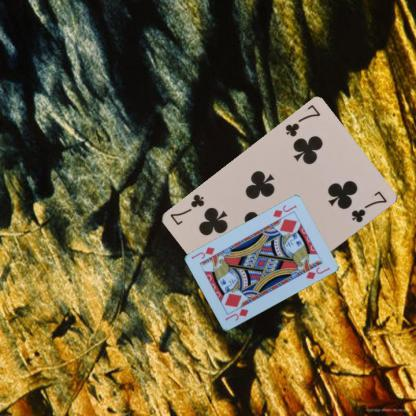7c: (282, 102, 322, 139)
Jd: (222, 306, 250, 323), (270, 203, 298, 219)
